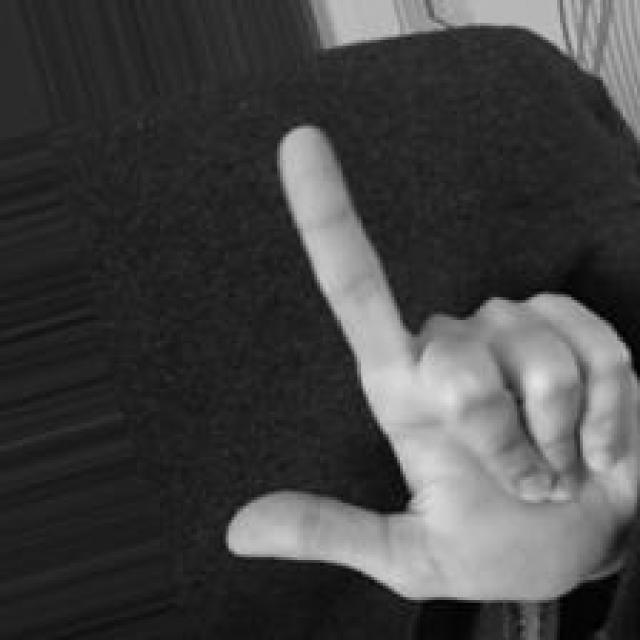L: (220, 123, 640, 607)
